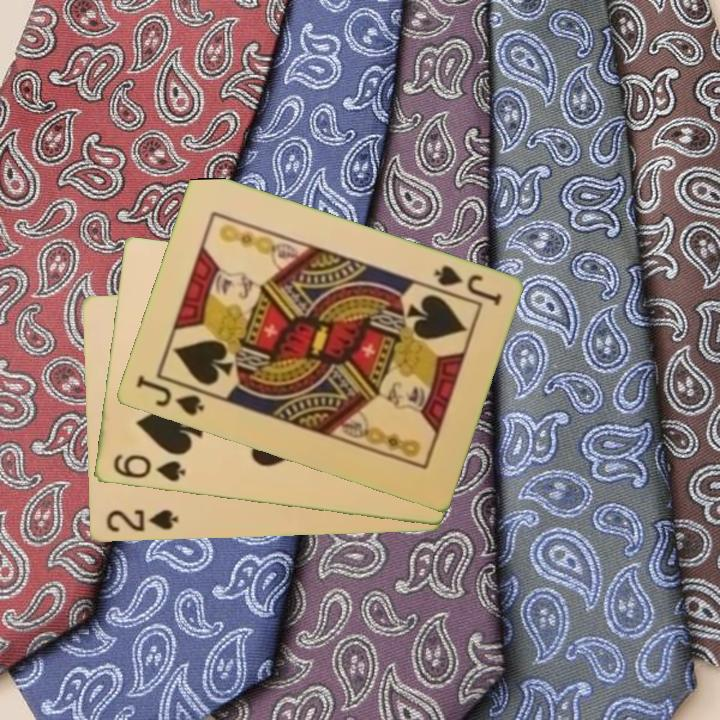2s: (102, 506, 181, 535)
6s: (109, 451, 188, 485)
Js: (132, 371, 207, 419), (430, 262, 504, 310)
